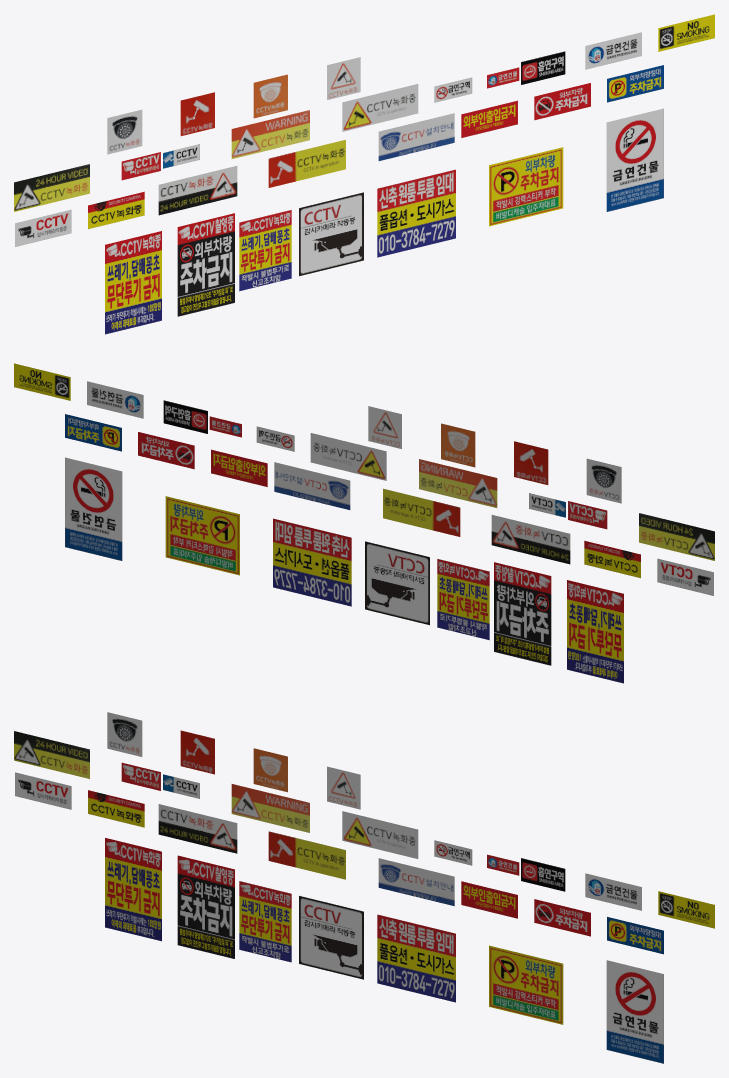
File: Sticker_Collection.fbx
3 views of the same model, one above another, from view 1: azimuth 30°, elevation 25°; view 2: azimuth 150°, elevation 25°; view 3: azimuth 330°, elevation 25° (orthographic).
Visible parts, largest first — view 1: Sticker_027, Sticker_002, Sticker_014, Sticker_015, Sticker_026, Sticker_024, Sticker_025, Sticker_009, Sticker_023, Sticker_019, Sticker_020, Sticker_021 (+16 smaller); view 2: Sticker_027, Sticker_002, Sticker_014, Sticker_015, Sticker_026, Sticker_024, Sticker_025, Sticker_009, Sticker_023, Sticker_019, Sticker_020, Sticker_021 (+16 smaller); view 3: Sticker_027, Sticker_014, Sticker_002, Sticker_015, Sticker_026, Sticker_024, Sticker_025, Sticker_009, Sticker_023, Sticker_019, Sticker_020, Sticker_021 (+16 smaller).
Part boxes in pixels (<box>): Sticker_027: <box>377,169,455,257</box>; Sticker_002: <box>177,213,234,316</box>; Sticker_014: <box>606,108,663,211</box>; Sticker_015: <box>105,231,161,334</box>; Sticker_026: <box>489,147,563,226</box>; Sticker_024: <box>299,192,363,276</box>; Sticker_025: <box>239,210,291,291</box>; Sticker_009: <box>158,166,237,215</box>; Sticker_023: <box>231,110,309,158</box>; Sticker_019: <box>268,139,345,187</box>; Sticker_020: <box>378,113,454,160</box>; Sticker_021: <box>342,84,418,131</box>; Sticker_027: <box>273,518,351,606</box>; Sticker_002: <box>494,562,551,665</box>; Sticker_014: <box>65,457,122,560</box>; Sticker_015: <box>567,580,623,683</box>; Sticker_026: <box>165,496,239,575</box>; Sticker_024: <box>365,541,429,625</box>; Sticker_025: <box>437,559,489,640</box>; Sticker_009: <box>491,515,570,564</box>; Sticker_023: <box>419,459,497,507</box>; Sticker_019: <box>383,488,460,536</box>; Sticker_020: <box>274,462,350,509</box>; Sticker_021: <box>310,433,386,480</box>; Sticker_027: <box>377,914,455,1002</box>; Sticker_014: <box>606,960,663,1063</box>; Sticker_002: <box>177,855,234,958</box>; Sticker_015: <box>105,838,161,941</box>; Sticker_026: <box>489,945,563,1024</box>; Sticker_024: <box>299,896,363,979</box>; Sticker_025: <box>239,881,291,962</box>; Sticker_009: <box>158,804,237,853</box>; Sticker_023: <box>231,784,309,832</box>; Sticker_019: <box>268,831,345,879</box>; Sticker_020: <box>378,858,454,906</box>; Sticker_021: <box>342,811,418,858</box>.
Bounding box in the file's own units: 577 × 170 × 4.56e-05.
Materials: 3 (3 with a texture image).
